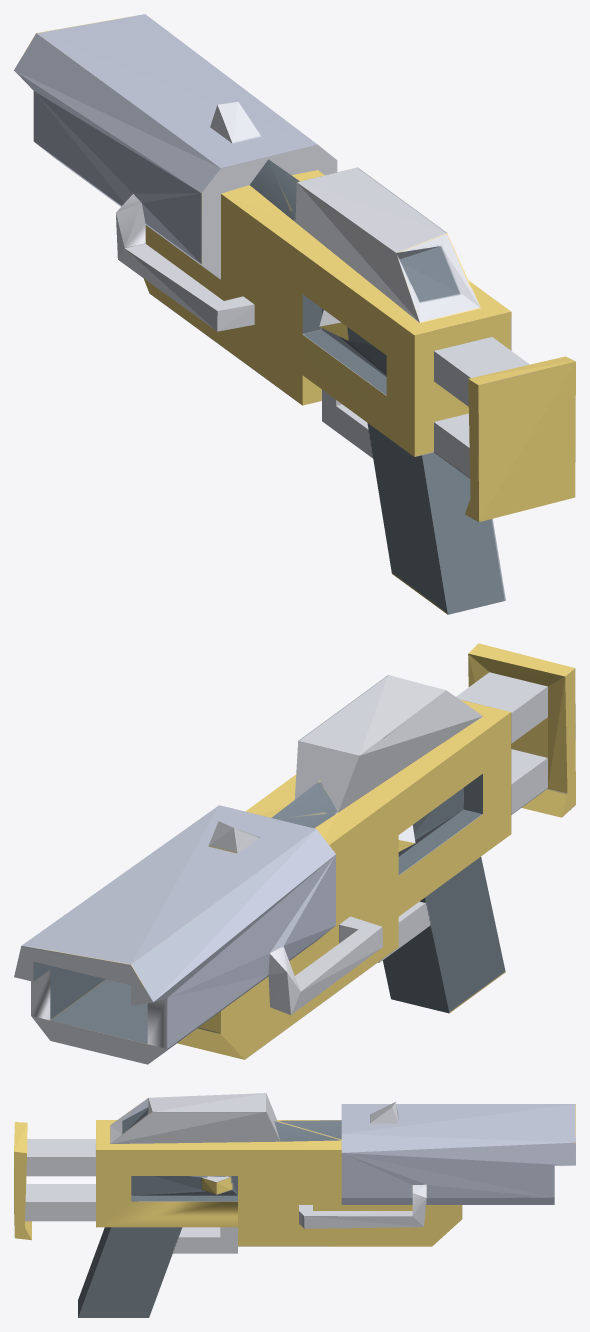
The model's file is rifle.fbx.
3 views of the same model, one above another, from view 1: azimuth 30°, elevation 25°; view 2: azimuth 150°, elevation 25°; view 3: azimuth 270°, elevation 25° (orthographic). The views are drawn at different scales.
Visible parts, largest first — view 1: rifle; view 2: rifle; view 3: rifle.
Boxes of the visible parts, <box> form: rifle: <box>14,14,575,614</box>; rifle: <box>14,643,575,1064</box>; rifle: <box>14,1093,575,1317</box>.
Size of the model in its own units: 10.2 by 17.92 by 44.3.
